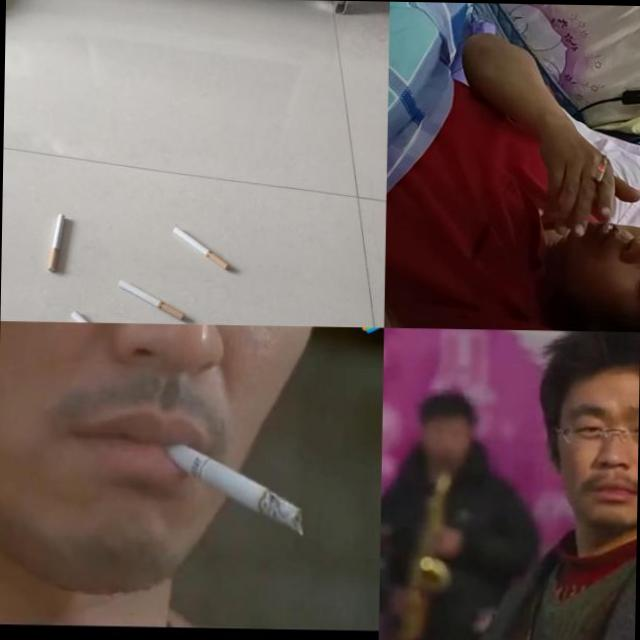smoke: (164, 440, 310, 537), (117, 279, 186, 320), (171, 227, 230, 270), (49, 213, 66, 271), (70, 310, 131, 322), (592, 154, 608, 199)
